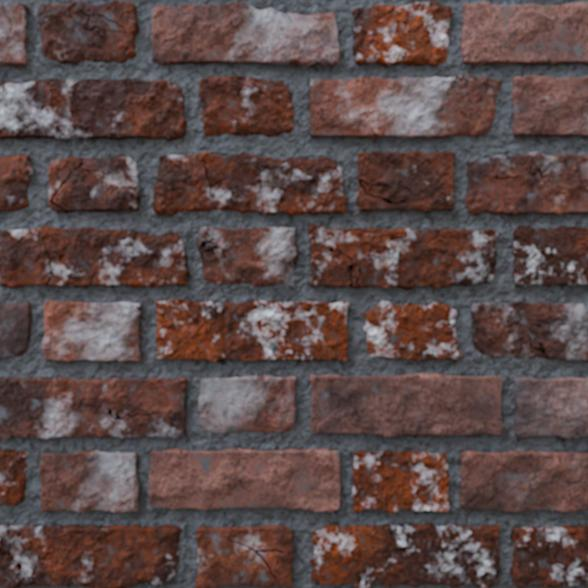brick: (310, 373, 502, 437), (153, 152, 346, 215), (308, 225, 497, 289), (151, 2, 339, 66), (311, 523, 498, 587), (149, 449, 339, 511), (156, 300, 347, 361), (310, 77, 499, 138), (0, 524, 180, 587), (0, 378, 185, 439), (0, 227, 187, 287), (0, 79, 185, 139), (461, 3, 587, 64), (460, 451, 587, 511), (466, 152, 587, 214), (471, 303, 587, 359), (353, 2, 451, 65), (38, 1, 138, 62), (40, 450, 138, 511), (196, 525, 292, 587), (43, 300, 140, 361), (352, 451, 448, 512), (197, 227, 296, 285), (363, 301, 461, 359), (357, 151, 453, 210), (199, 76, 293, 135), (199, 376, 295, 432), (48, 155, 139, 211), (510, 525, 587, 586), (512, 76, 587, 136), (512, 226, 587, 286), (514, 378, 587, 438), (0, 155, 32, 210), (0, 4, 27, 66), (0, 303, 30, 357), (0, 449, 27, 504), (0, 555, 17, 587), (50, 204, 63, 211)
crack: (49, 161, 109, 211), (325, 241, 371, 287), (358, 178, 415, 207), (41, 234, 67, 285), (0, 541, 22, 587), (27, 546, 51, 585), (197, 237, 231, 263), (449, 75, 493, 89), (1, 6, 12, 40), (20, 3, 28, 11), (135, 302, 141, 312)
